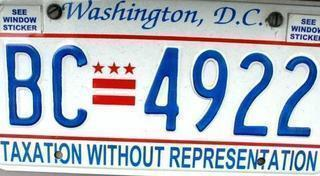placa de veiculo: (4, 3, 320, 173)
